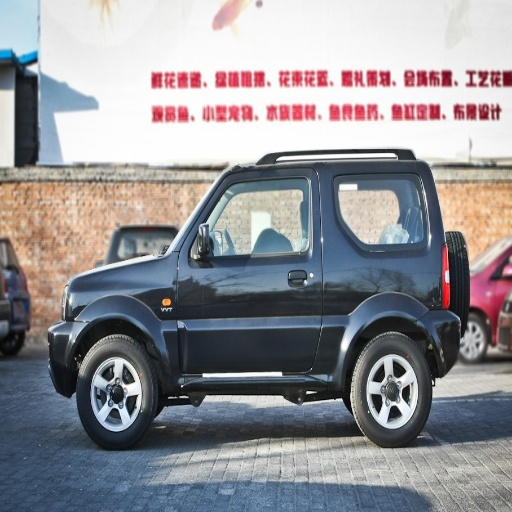front_right_door: (285, 300, 320, 370)
